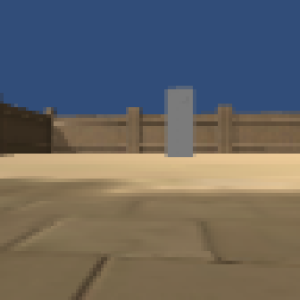wall: (165, 86, 194, 158)
